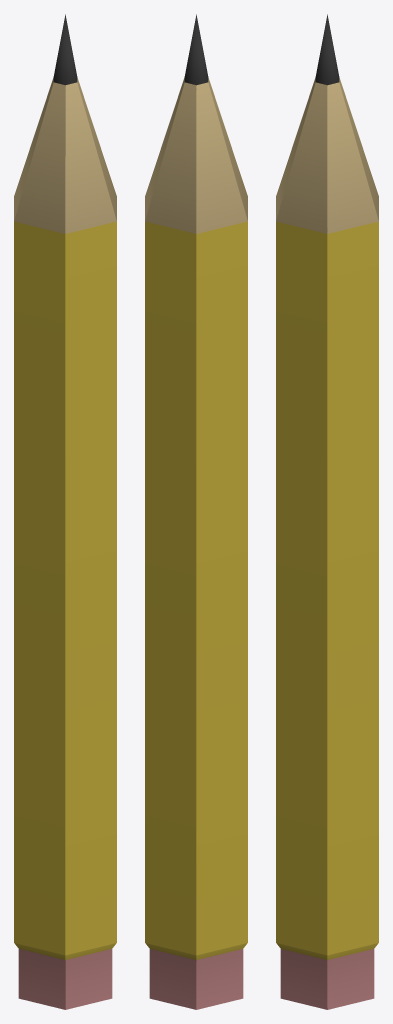
File: pencil.fbx
3 renders of one model, left to right at view 1: azimuth 30°, elevation 25°; view 2: azimuth 150°, elevation 25°; view 3: azimuth 330°, elevation 25°, orthographic.
Visible parts, largest first — view 1: pCylinder1; view 2: pCylinder1; view 3: pCylinder1.
Boxes of the visible parts, box(x1,y1,x2,y2) form: pCylinder1: box(14, 14, 116, 1009); pCylinder1: box(145, 14, 247, 1009); pCylinder1: box(276, 14, 378, 1009).
Bounding box in the file's own units: 0.00454 × 0.0411 × 0.00394.
